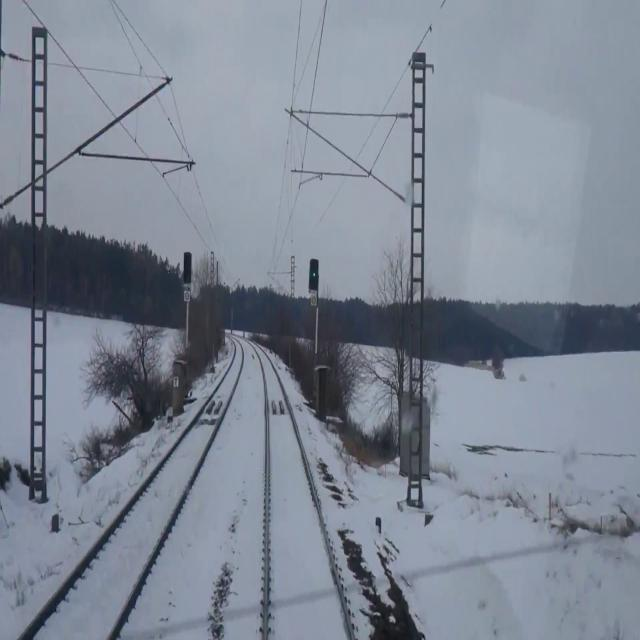rail-track: (23, 342, 241, 639), (256, 347, 350, 639)
